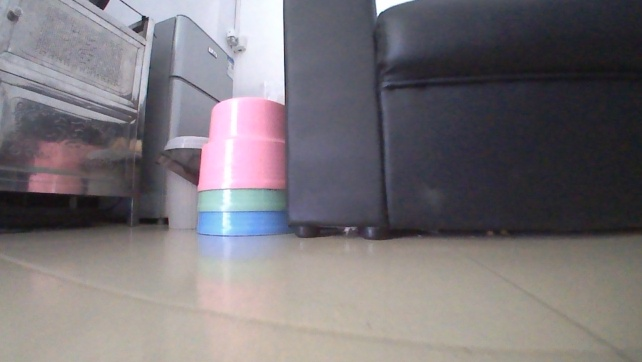refrigerator: (132, 12, 237, 228)
sofe1: (275, 0, 641, 242)
